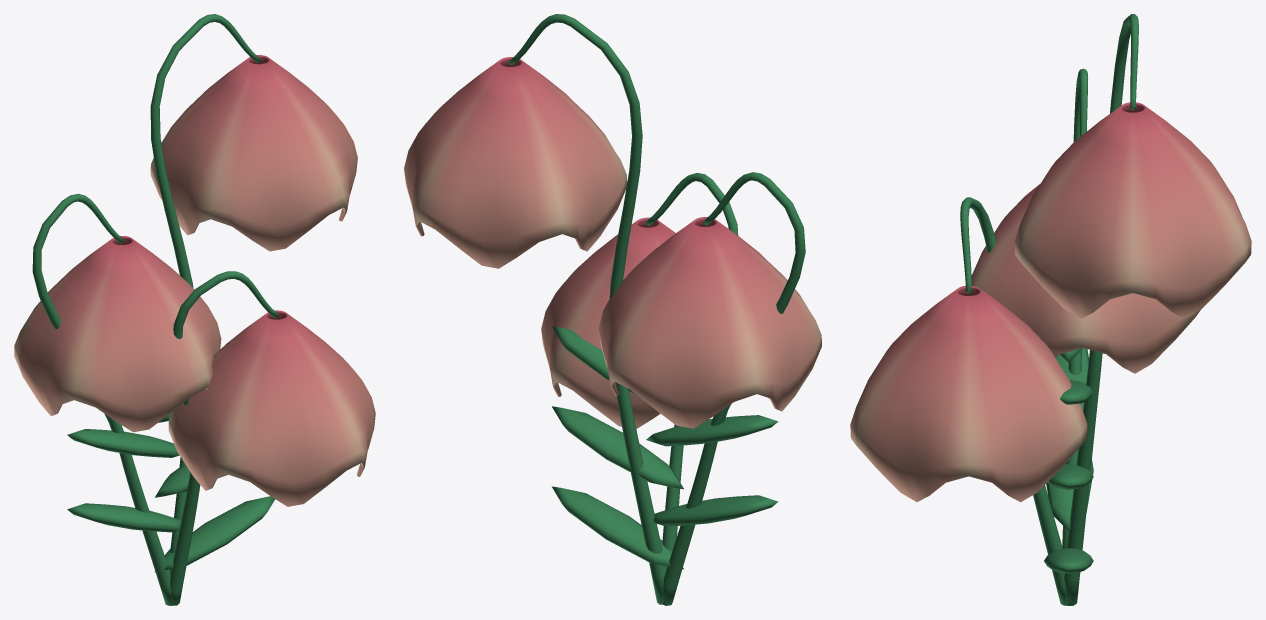
Rendered from garden-bellflowers.glb.
3 views of the same model, side by side, from view 1: azimuth 30°, elevation 25°; view 2: azimuth 150°, elevation 25°; view 3: azimuth 270°, elevation 25° (orthographic). The views are drawn at different scales.
Visible parts, largest first — view 1: Bellflower petal paint, Bellflower stems; view 2: Bellflower petal paint, Bellflower stems; view 3: Bellflower petal paint, Bellflower stems.
Part boxes in pixels (bbox=[...]): Bellflower petal paint: bbox=[14, 55, 375, 506]; Bellflower stems: bbox=[32, 14, 278, 605]; Bellflower petal paint: bbox=[404, 57, 821, 428]; Bellflower stems: bbox=[508, 14, 805, 605]; Bellflower petal paint: bbox=[850, 102, 1251, 502]; Bellflower stems: bbox=[960, 14, 1138, 605].
Size of the model in its own units: 0.6282 by 0.9628 by 0.5621.
